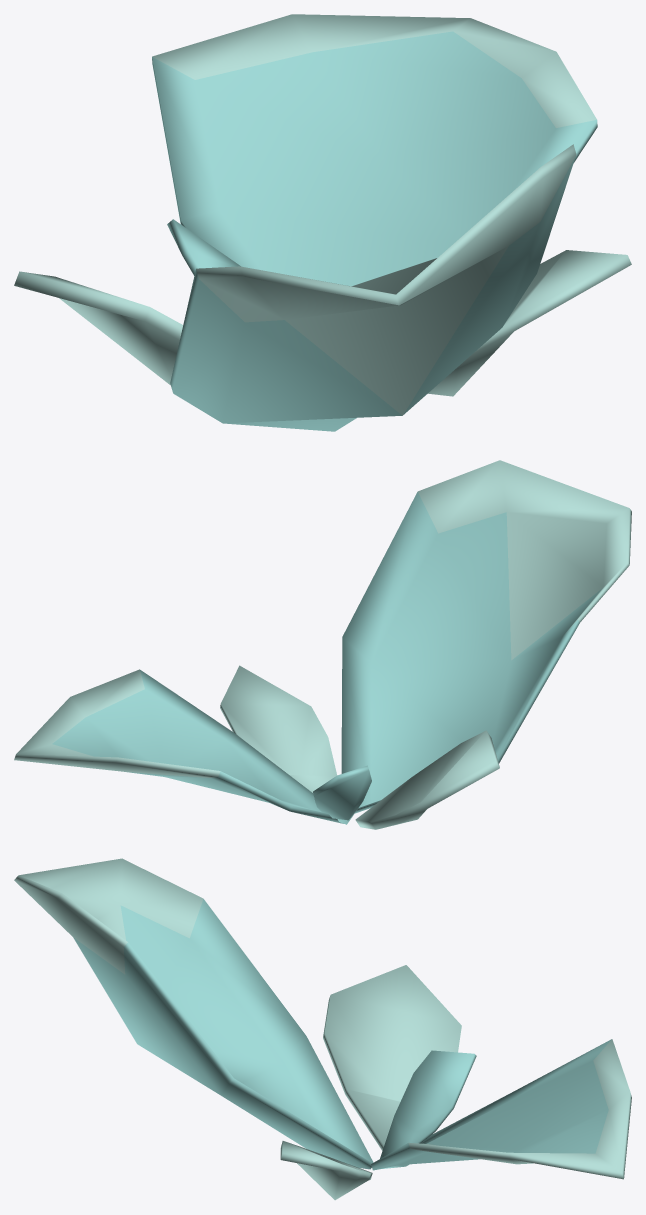
Rendered from flower_p01.fbx.
The picture shows the model from 3 angles, top to bottom: view 1: azimuth 30°, elevation 25°; view 2: azimuth 150°, elevation 25°; view 3: azimuth 270°, elevation 25°; orthographic projection. The views are drawn at different scales.
Visible parts, largest first — view 1: Fleur01.001; view 2: Fleur01.001; view 3: Fleur01.001.
Part boxes in pixels (x1,y1,x2,y2): Fleur01.001: (14, 14, 631, 431); Fleur01.001: (14, 460, 631, 829); Fleur01.001: (14, 858, 631, 1200).
Size of the model in its own units: 38.41 by 24.84 by 50.46.
